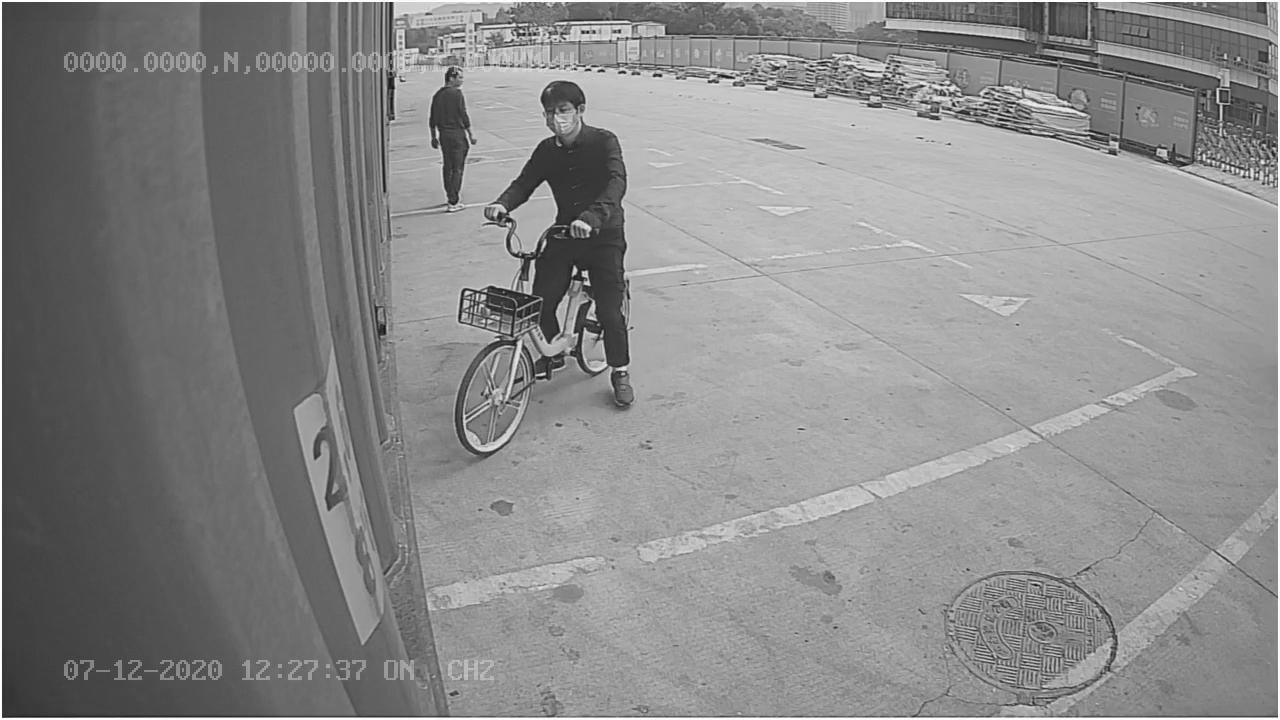person: (422, 62, 486, 215)
